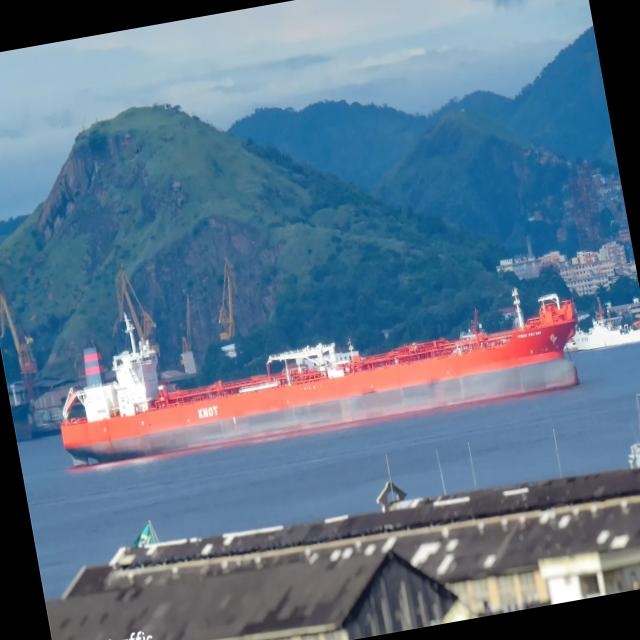Tanker: (60, 289, 578, 464)
